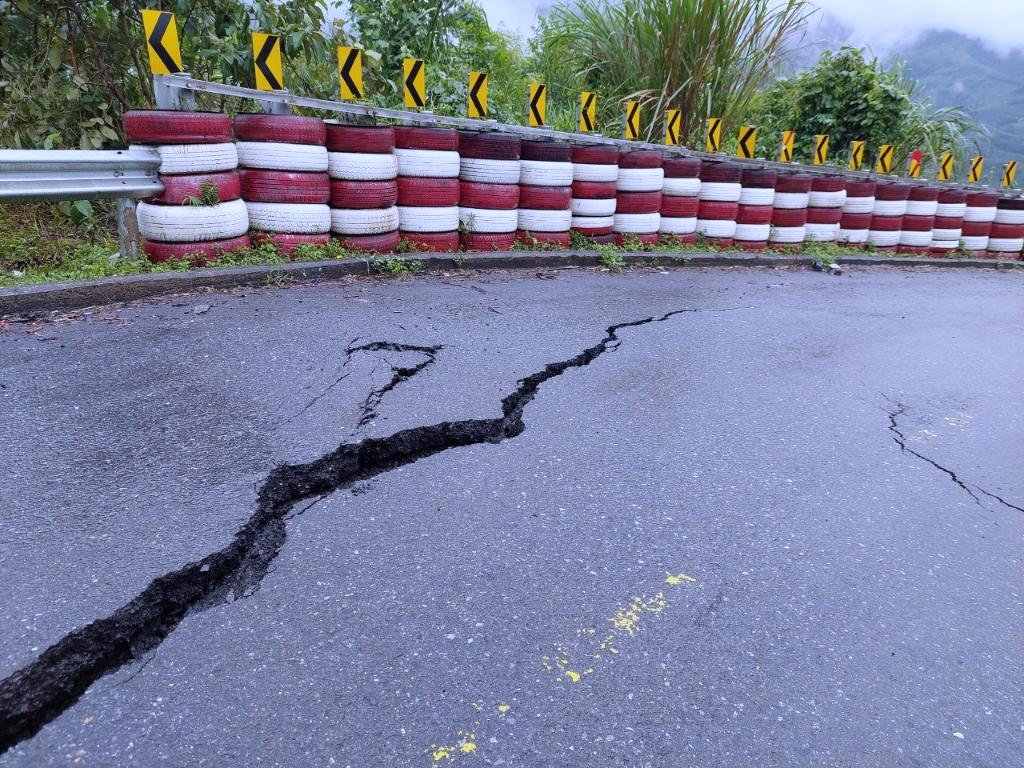ROAD_CRACK: (0, 390, 680, 768), (115, 140, 995, 345)
